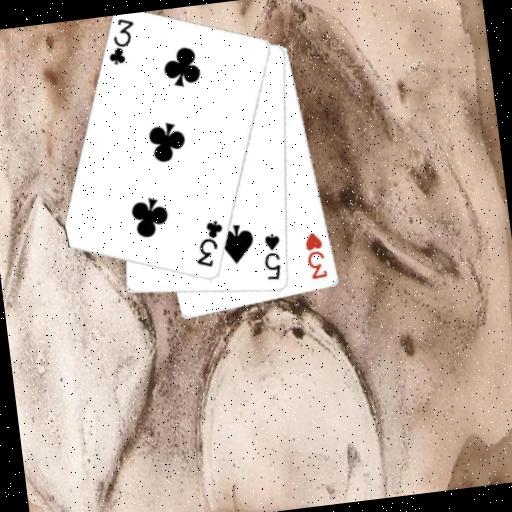3C: (189, 217, 230, 271), (101, 14, 141, 68)
3H: (301, 229, 330, 282)
5S: (258, 230, 287, 283)
